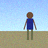person: (24, 12, 36, 40)
